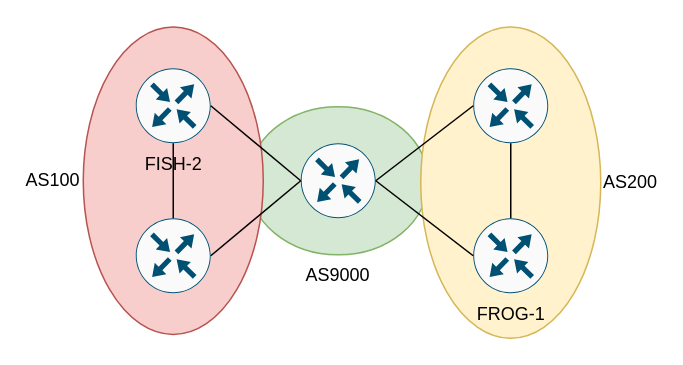
Image size: 683x365. Some labels were removed from this diagram. The centre of each missing label's shape, as x and y in pixels:
"Internet": [337,180]
FISH-1: [172,255]
FROG-2: [510,105]
